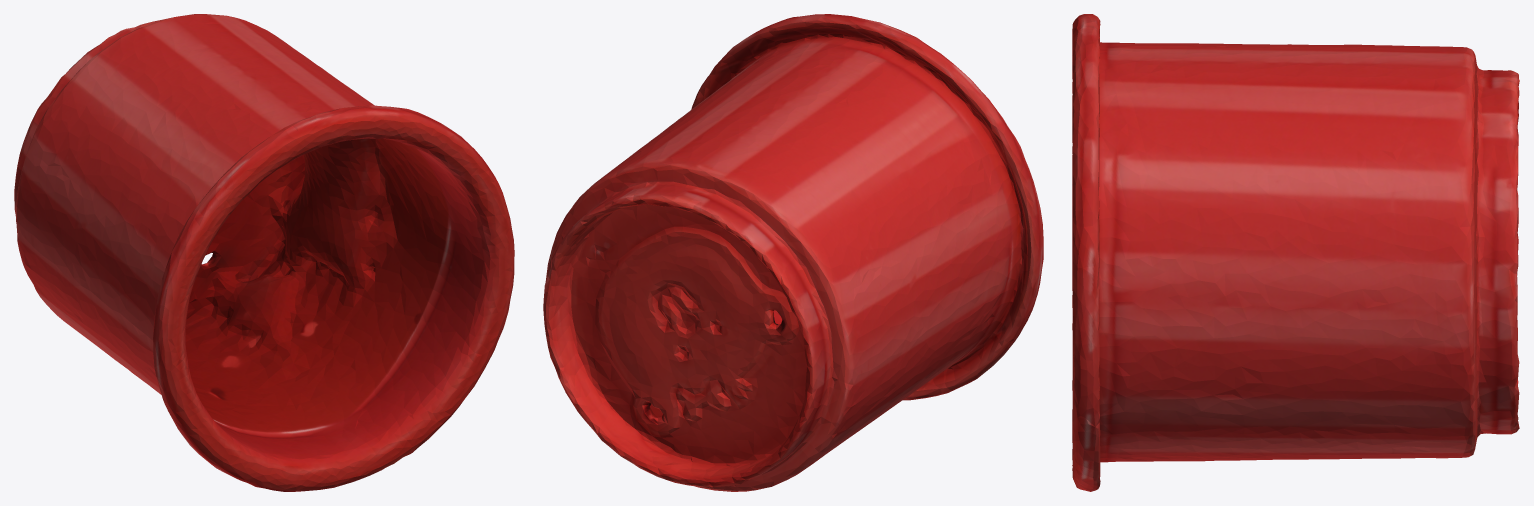
File: e_cups.glb
3 renders of one model, left to right at view 1: azimuth 30°, elevation 25°; view 2: azimuth 150°, elevation 25°; view 3: azimuth 270°, elevation 25°, orthographic. The views are drawn at different scales.
Visible parts, largest first — view 1: textured.obj; view 2: textured.obj; view 3: textured.obj.
Boxes of the visible parts, x1=… form: textured.obj: x1=14, y1=14, x2=514, y2=491; textured.obj: x1=543, y1=14, x2=1043, y2=491; textured.obj: x1=1072, y1=14, x2=1519, y2=491.
Size of the model in its own units: 0.0751 by 0.0751 by 0.0707.
1 material, 1 textured.
